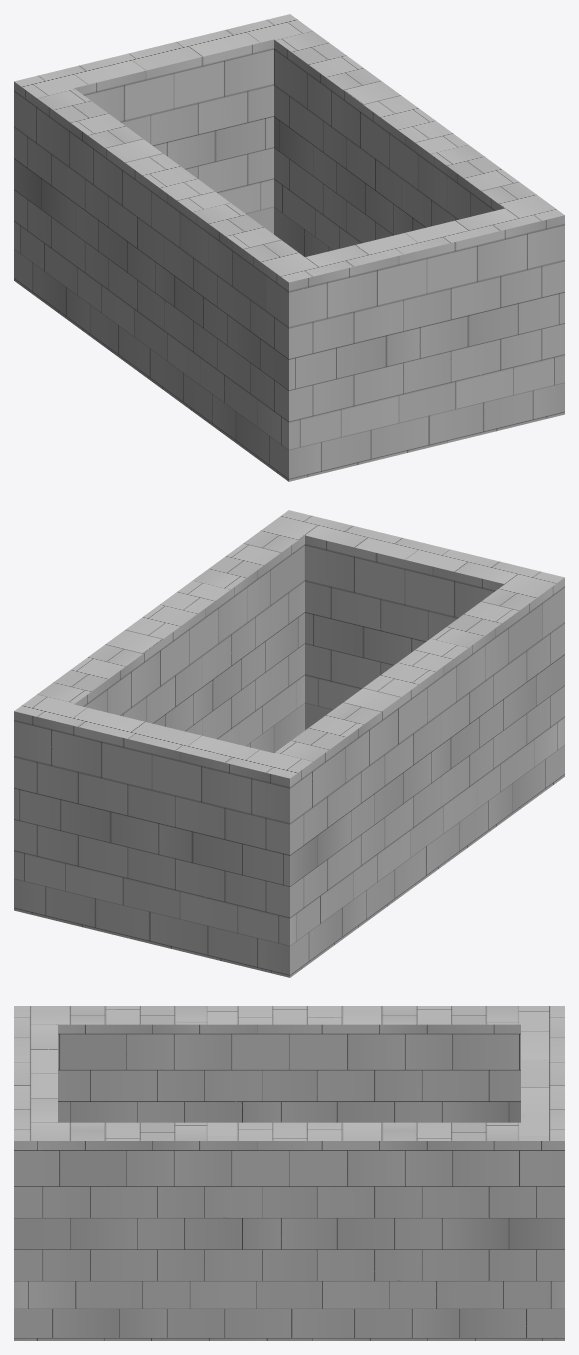
File: cuve.glb
The picture shows the model from 3 angles, top to bottom: view 1: azimuth 30°, elevation 25°; view 2: azimuth 150°, elevation 25°; view 3: azimuth 270°, elevation 25°; orthographic projection.
Parts seen in each view (by area): view 1: Cube.001; view 2: Cube.001; view 3: Cube.001.
Part boxes in pixels (x1,y1,x2,y2): Cube.001: [14, 14, 564, 481]; Cube.001: [14, 510, 564, 977]; Cube.001: [14, 1006, 564, 1340].
Bounding box in the file's own units: 5.8 × 4 × 10.
Materials: 1 (1 with a texture image).
